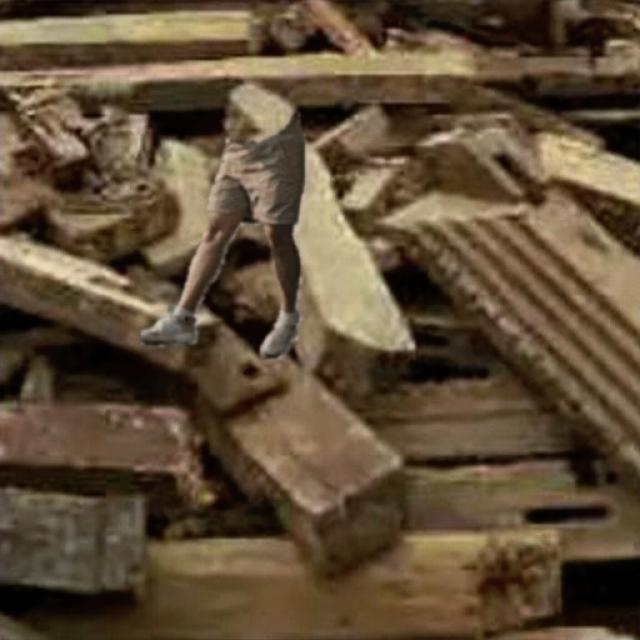Person in Rubble: (141, 112, 304, 358)
